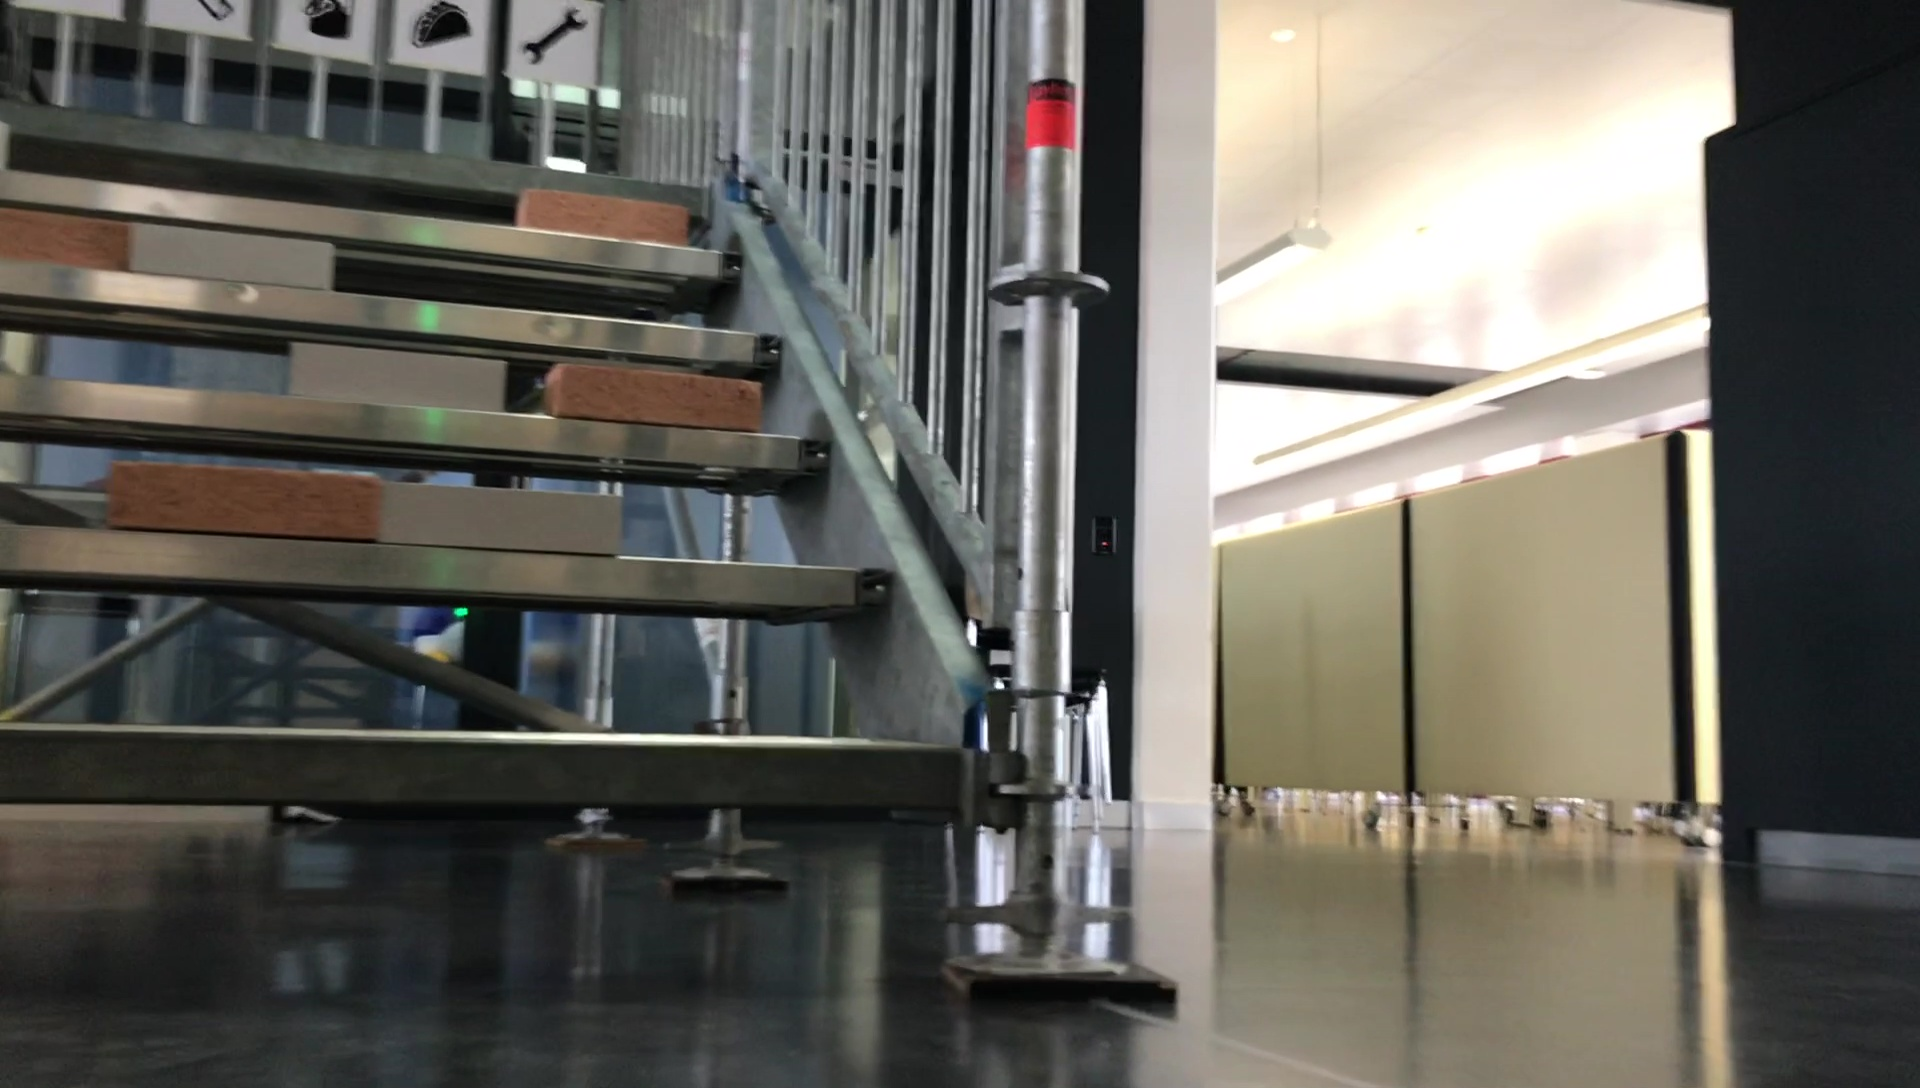brick: (82, 472, 382, 545), (289, 335, 509, 419), (385, 491, 615, 555), (545, 367, 758, 431), (142, 218, 328, 291), (509, 191, 698, 243), (0, 212, 127, 276)
bucket: (306, 0, 356, 40)
edge: (0, 729, 990, 797), (7, 99, 641, 191), (0, 287, 775, 339), (0, 543, 899, 582), (0, 396, 825, 433), (30, 193, 746, 229)
steps: (0, 106, 1017, 814)
taco: (401, 0, 471, 47)
wrench: (520, 5, 592, 65)
